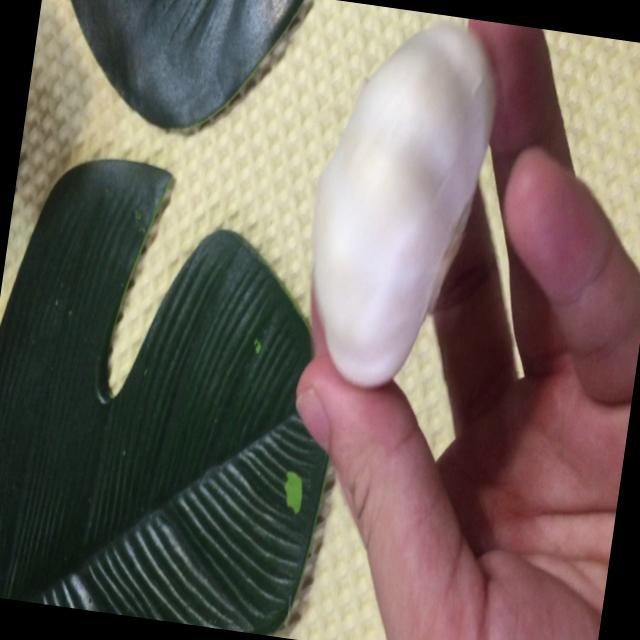bawang: (288, 1, 509, 408)
